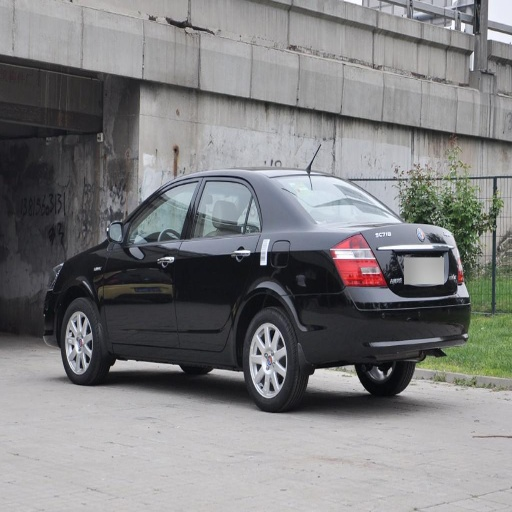back_bumper: (297, 284, 470, 364)
back_left_door: (178, 177, 261, 348)
